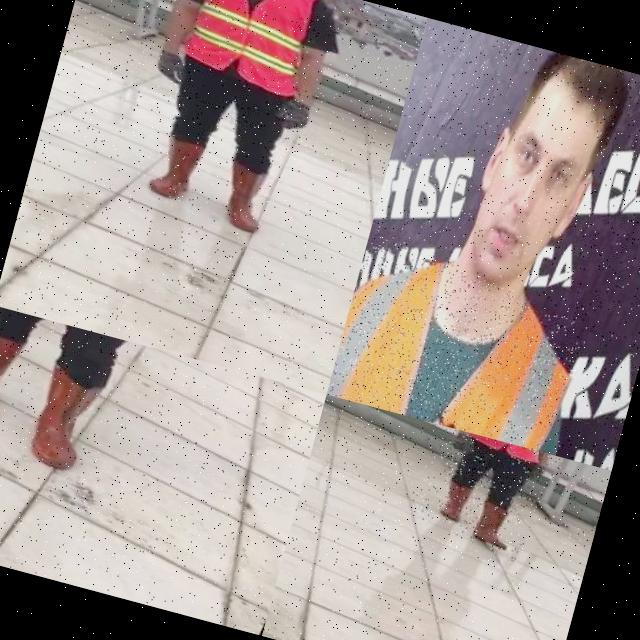boots: (11, 358, 114, 481), (202, 154, 286, 238), (138, 127, 210, 208), (465, 494, 524, 552), (0, 323, 24, 429), (432, 474, 478, 524)
vest: (326, 227, 604, 456), (158, 0, 337, 107), (464, 432, 549, 469)
